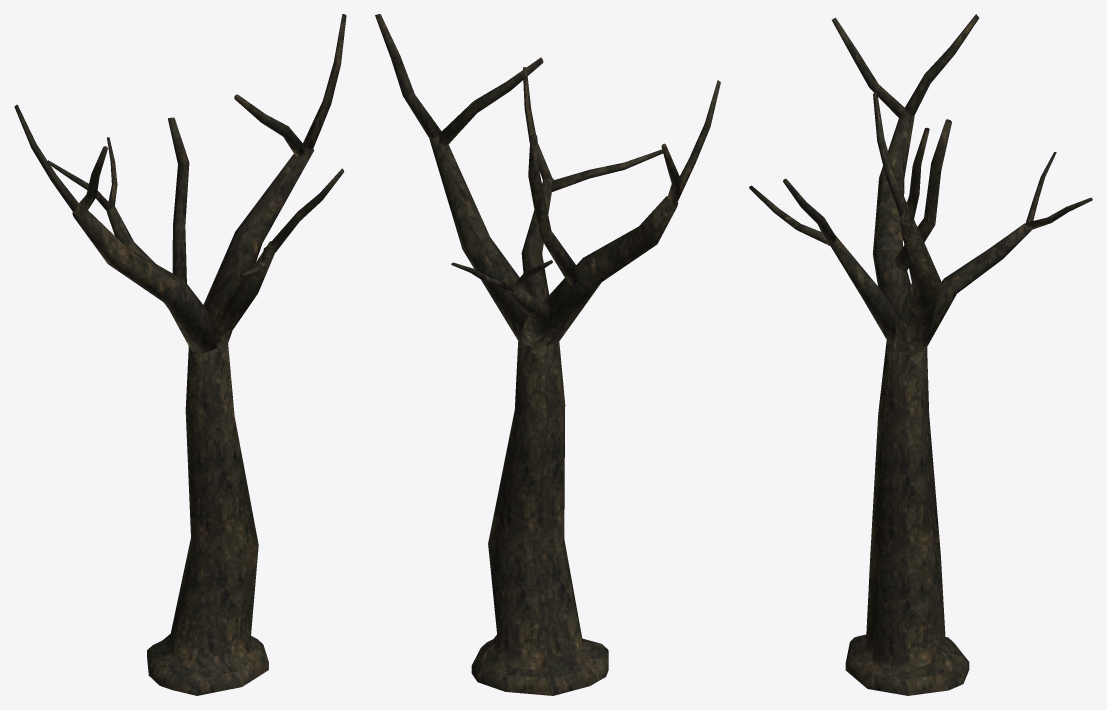
File: Cutable Trees.fbx
3 renders of one model, left to right at view 1: azimuth 30°, elevation 25°; view 2: azimuth 150°, elevation 25°; view 3: azimuth 270°, elevation 25°, orthographic. The views are drawn at different scales.
Parts seen in each view (by area): view 1: Cutable Tree; view 2: Cutable Tree; view 3: Cutable Tree.
Boxes of the visible parts, x1,y1,x2,y2 form: Cutable Tree: (14, 14, 346, 695); Cutable Tree: (375, 14, 720, 695); Cutable Tree: (749, 14, 1092, 695).
Size of the model in its own units: 558 by 1056 by 538.
1 material, 1 textured.
